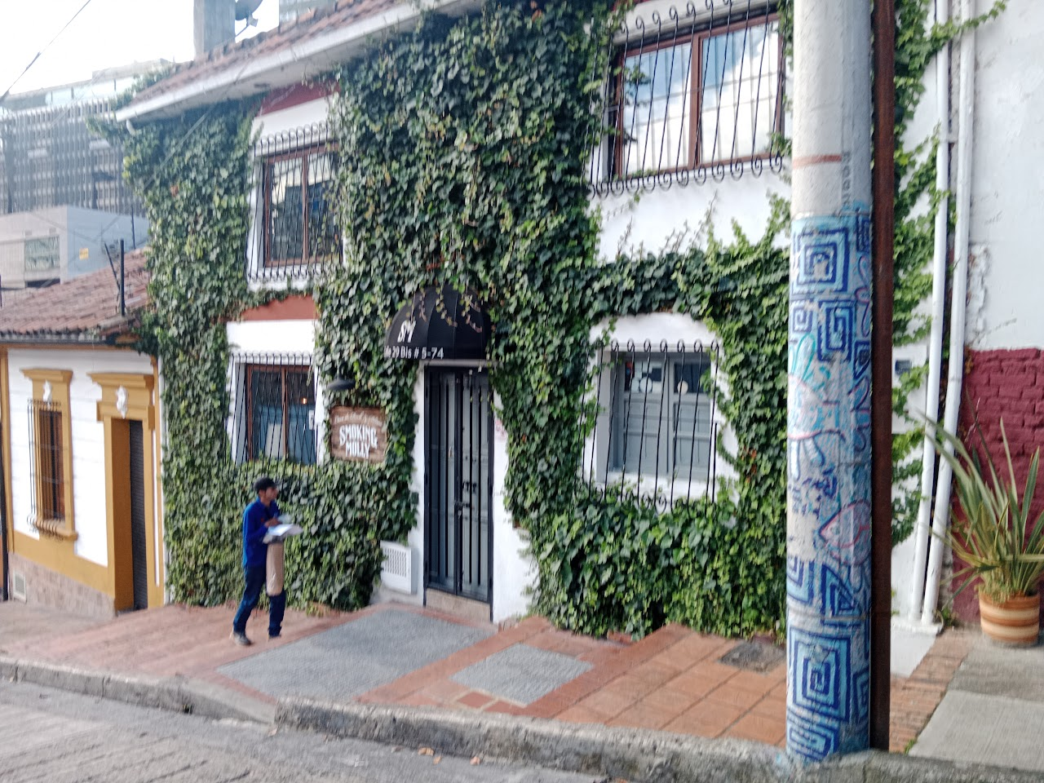House: (130, 42, 954, 651)
